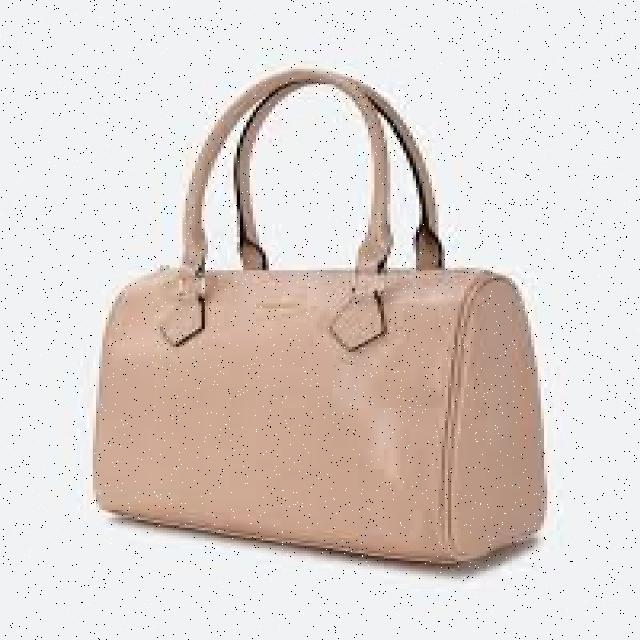handbag: (90, 66, 547, 566)
